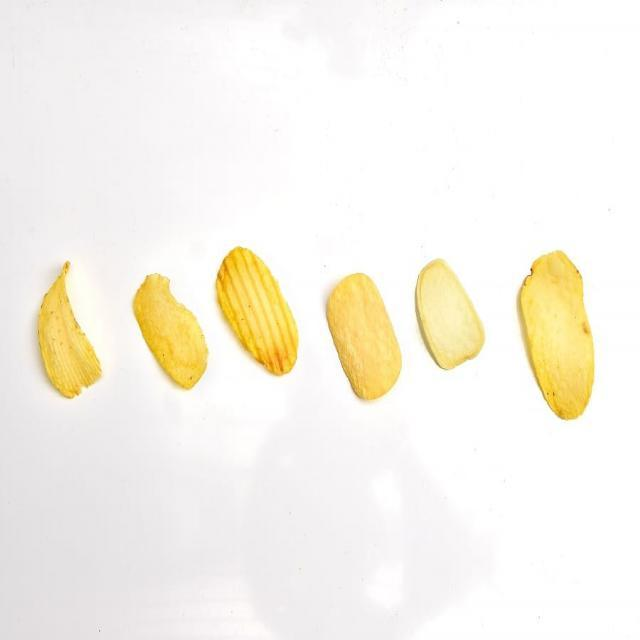Chips packaged: (517, 241, 595, 426), (210, 241, 300, 387), (323, 268, 407, 403), (34, 259, 108, 403), (131, 266, 213, 394), (410, 254, 488, 384)
